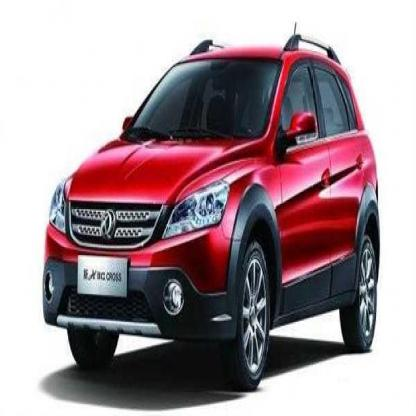Car: (43, 35, 382, 380)
